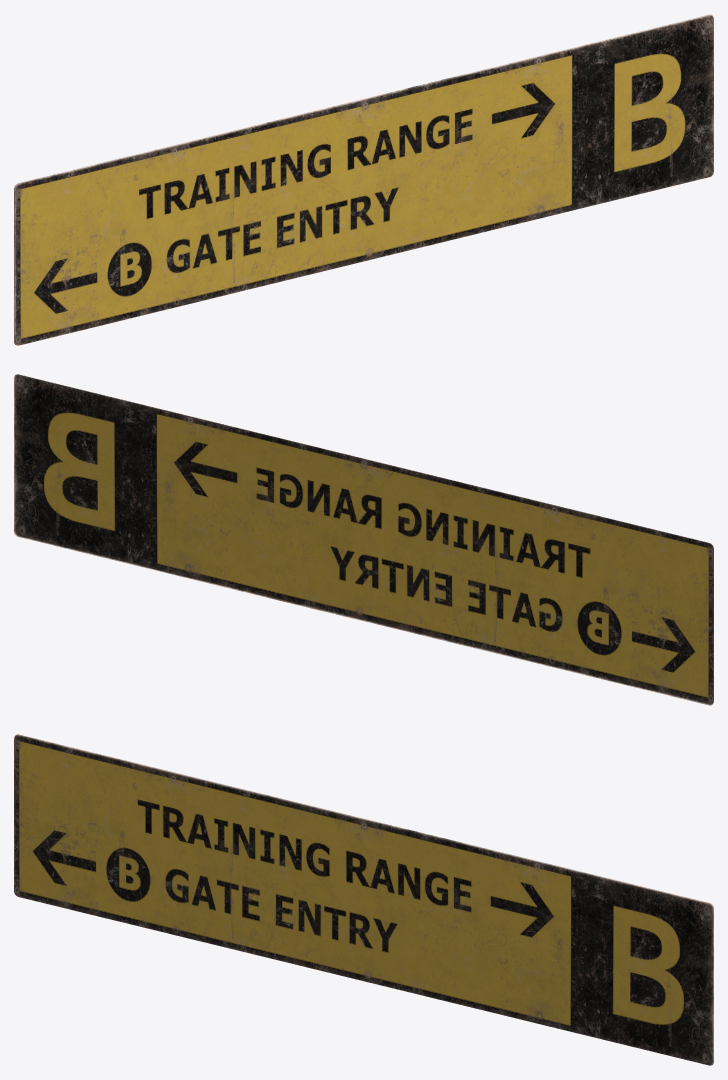
File: SM_Sign_01a.glb
3 renders of one model, top to bottom at view 1: azimuth 30°, elevation 25°; view 2: azimuth 150°, elevation 25°; view 3: azimuth 330°, elevation 25°, orthographic.
Visible parts, largest first — view 1: SM_Sign_01a; view 2: SM_Sign_01a; view 3: SM_Sign_01a.
Boxes of the visible parts, x1,y1,x2,y2 form: SM_Sign_01a: (14, 14, 713, 345); SM_Sign_01a: (14, 374, 713, 705); SM_Sign_01a: (14, 734, 713, 1065).
Size of the model in its own units: 1.93 by 0.4269 by 0.00402.
Materials: 1 (1 with a texture image).
